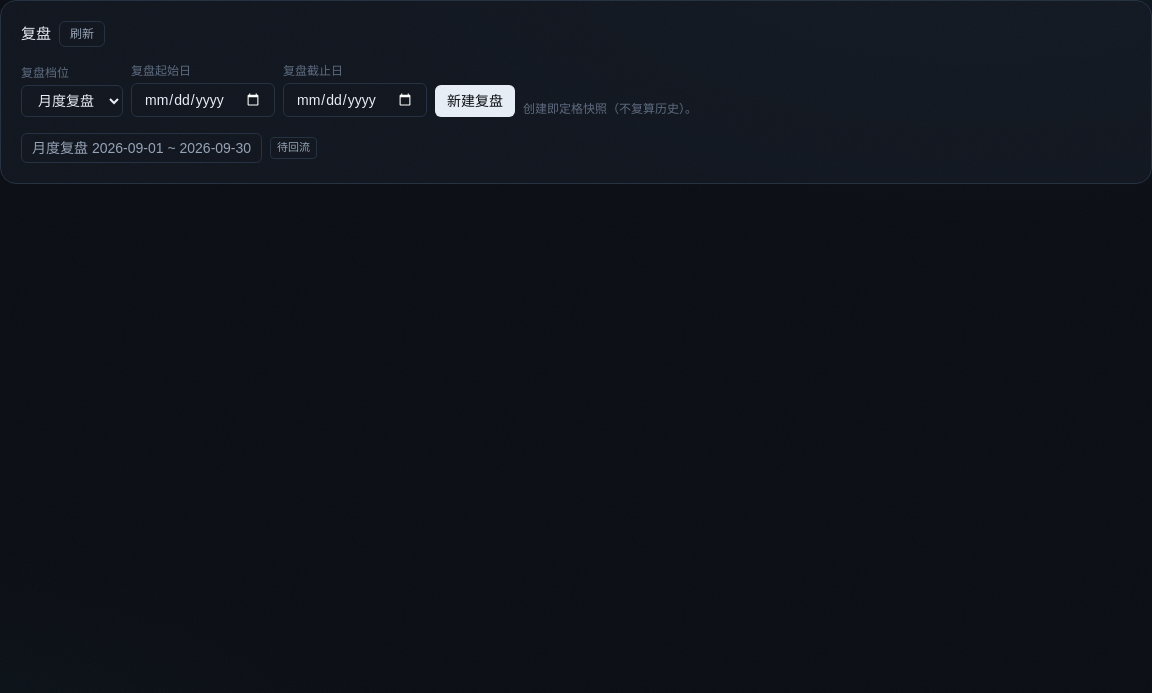
Test: ReviewForm 快照对照（auto/override 双列） › 无数据标注原样展示：快照 periodReturn=「无数据」不以空白/0 兜底（Review Focus 1）
This screenshot has width=1152, height=693.
Click the button "月度复盘 2026-09-01 ~ 2026-09-30". click: (142, 148)
box: [21,133,262,163]
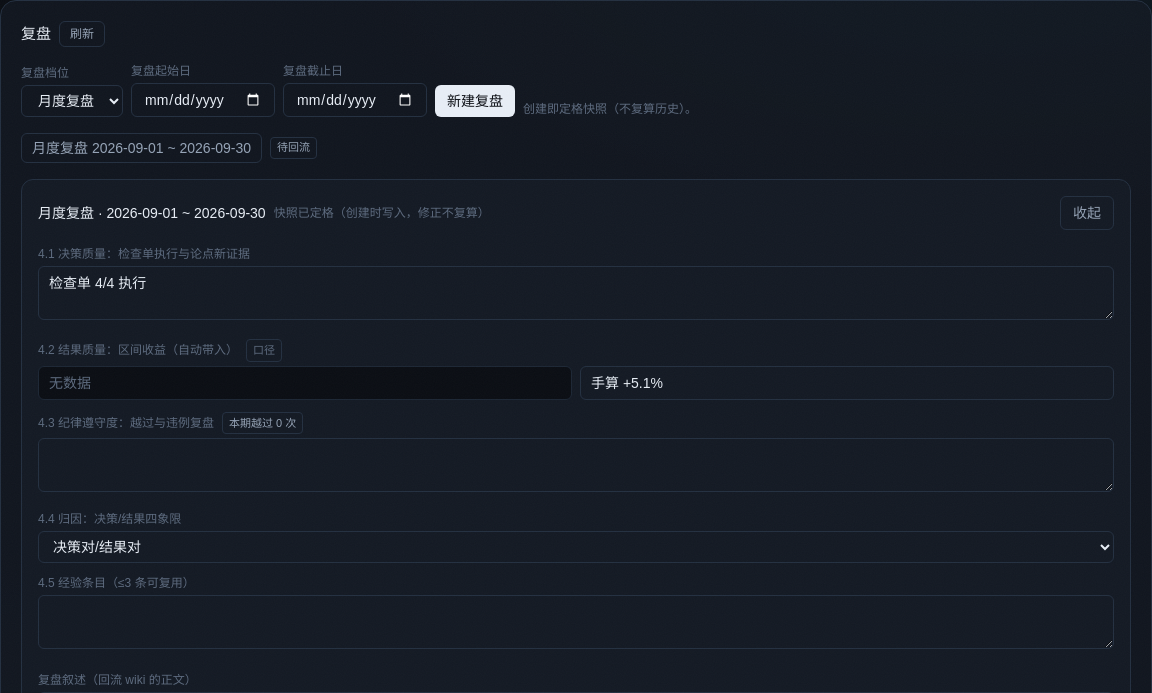
Now the text "无数据" is shown, box [38,366,572,400]
